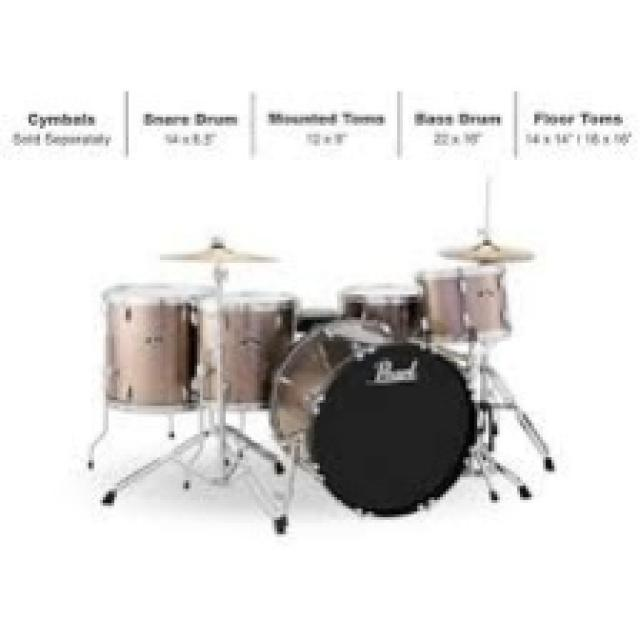drums: (70, 191, 569, 538)
